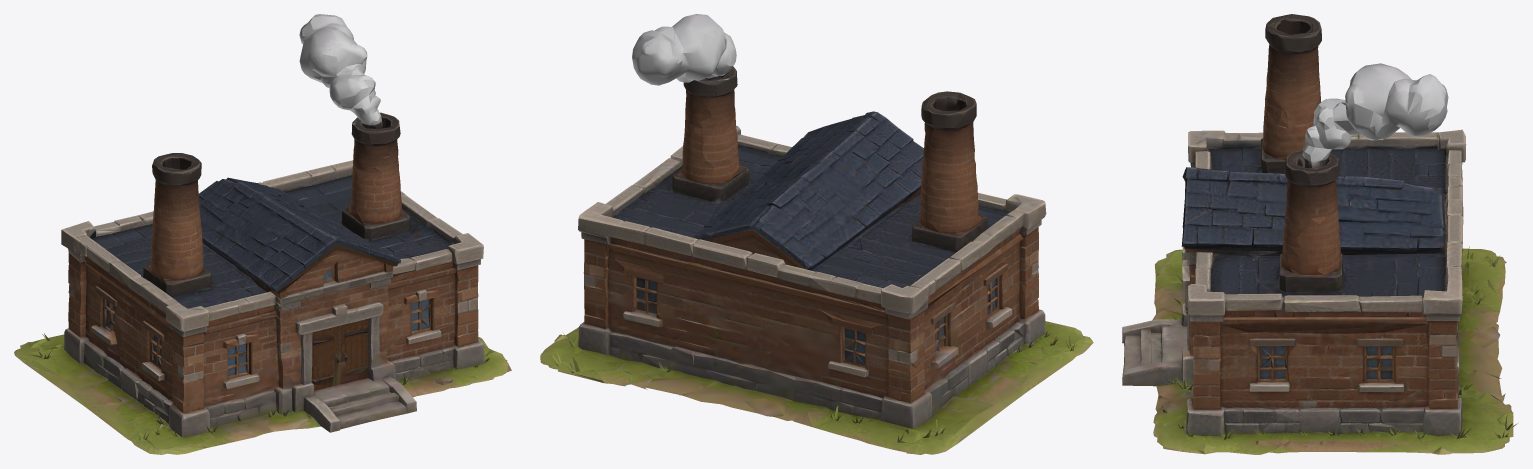
The model's file is factory.glb.
3 renders of one model, left to right at view 1: azimuth 30°, elevation 25°; view 2: azimuth 150°, elevation 25°; view 3: azimuth 270°, elevation 25°, orthographic. The views are drawn at different scales.
Size of the model in its own units: 1.89 by 1.43 by 1.53.
1 material, 1 textured.
